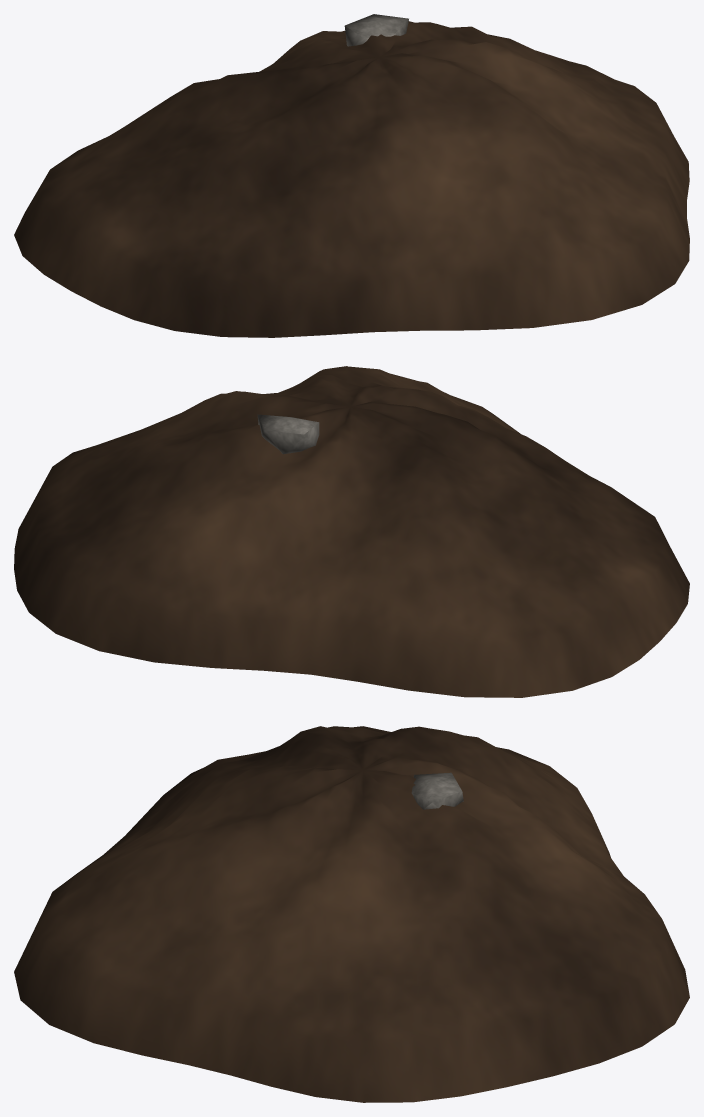
File: treasuremound.glb
3 views of the same model, one above another, from view 1: azimuth 30°, elevation 25°; view 2: azimuth 150°, elevation 25°; view 3: azimuth 270°, elevation 25° (orthographic). The views are drawn at different scales.
Parts seen in each view (by area): view 1: mound, clod0; view 2: mound, clod0; view 3: mound, clod0.
Boxes of the visible parts, left/top/right/bottom form: mound: left=14, top=21, right=689, bottom=337; clod0: left=344, top=14, right=408, bottom=46; mound: left=14, top=366, right=689, bottom=697; clod0: left=257, top=414, right=319, bottom=454; mound: left=14, top=726, right=689, bottom=1102; clod0: left=411, top=772, right=463, bottom=809.
Size of what is drawn, in the model's own units: 1.81 by 0.4653 by 1.59.
Materials: 2 (2 with a texture image).
